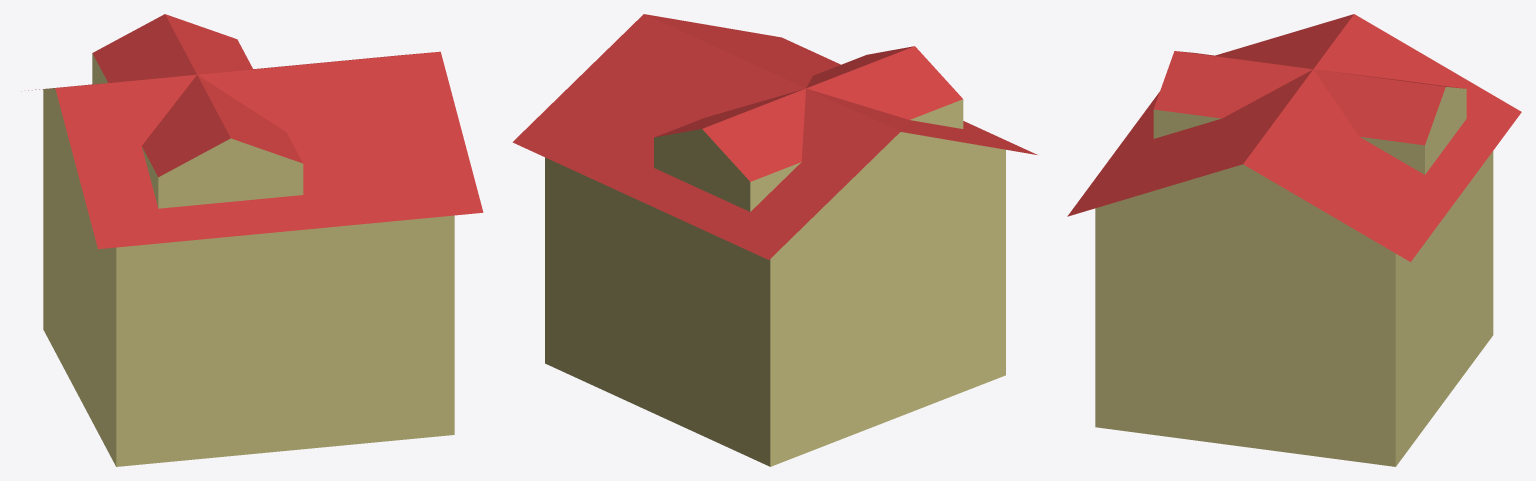
3 renders of one model, left to right at view 1: azimuth 30°, elevation 25°; view 2: azimuth 150°, elevation 25°; view 3: azimuth 270°, elevation 25°, orthographic. The views are drawn at different scales.
Bounding box in the file's own units: 15.3 × 15.03 × 10.67.
